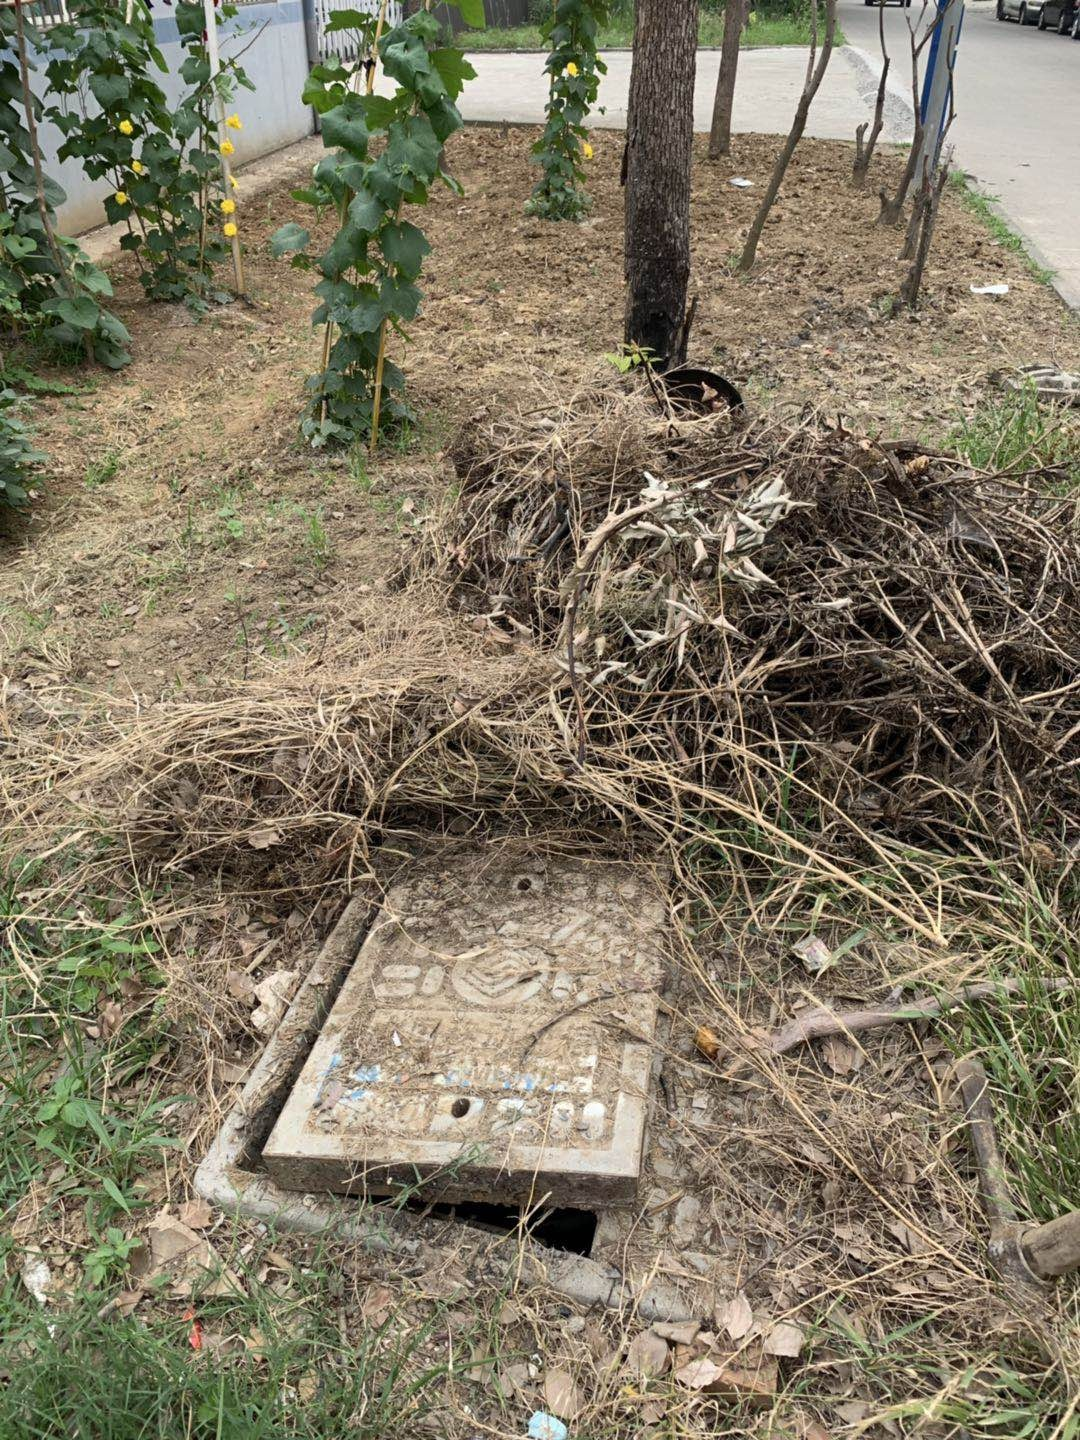well: (189, 822, 1037, 1435)
